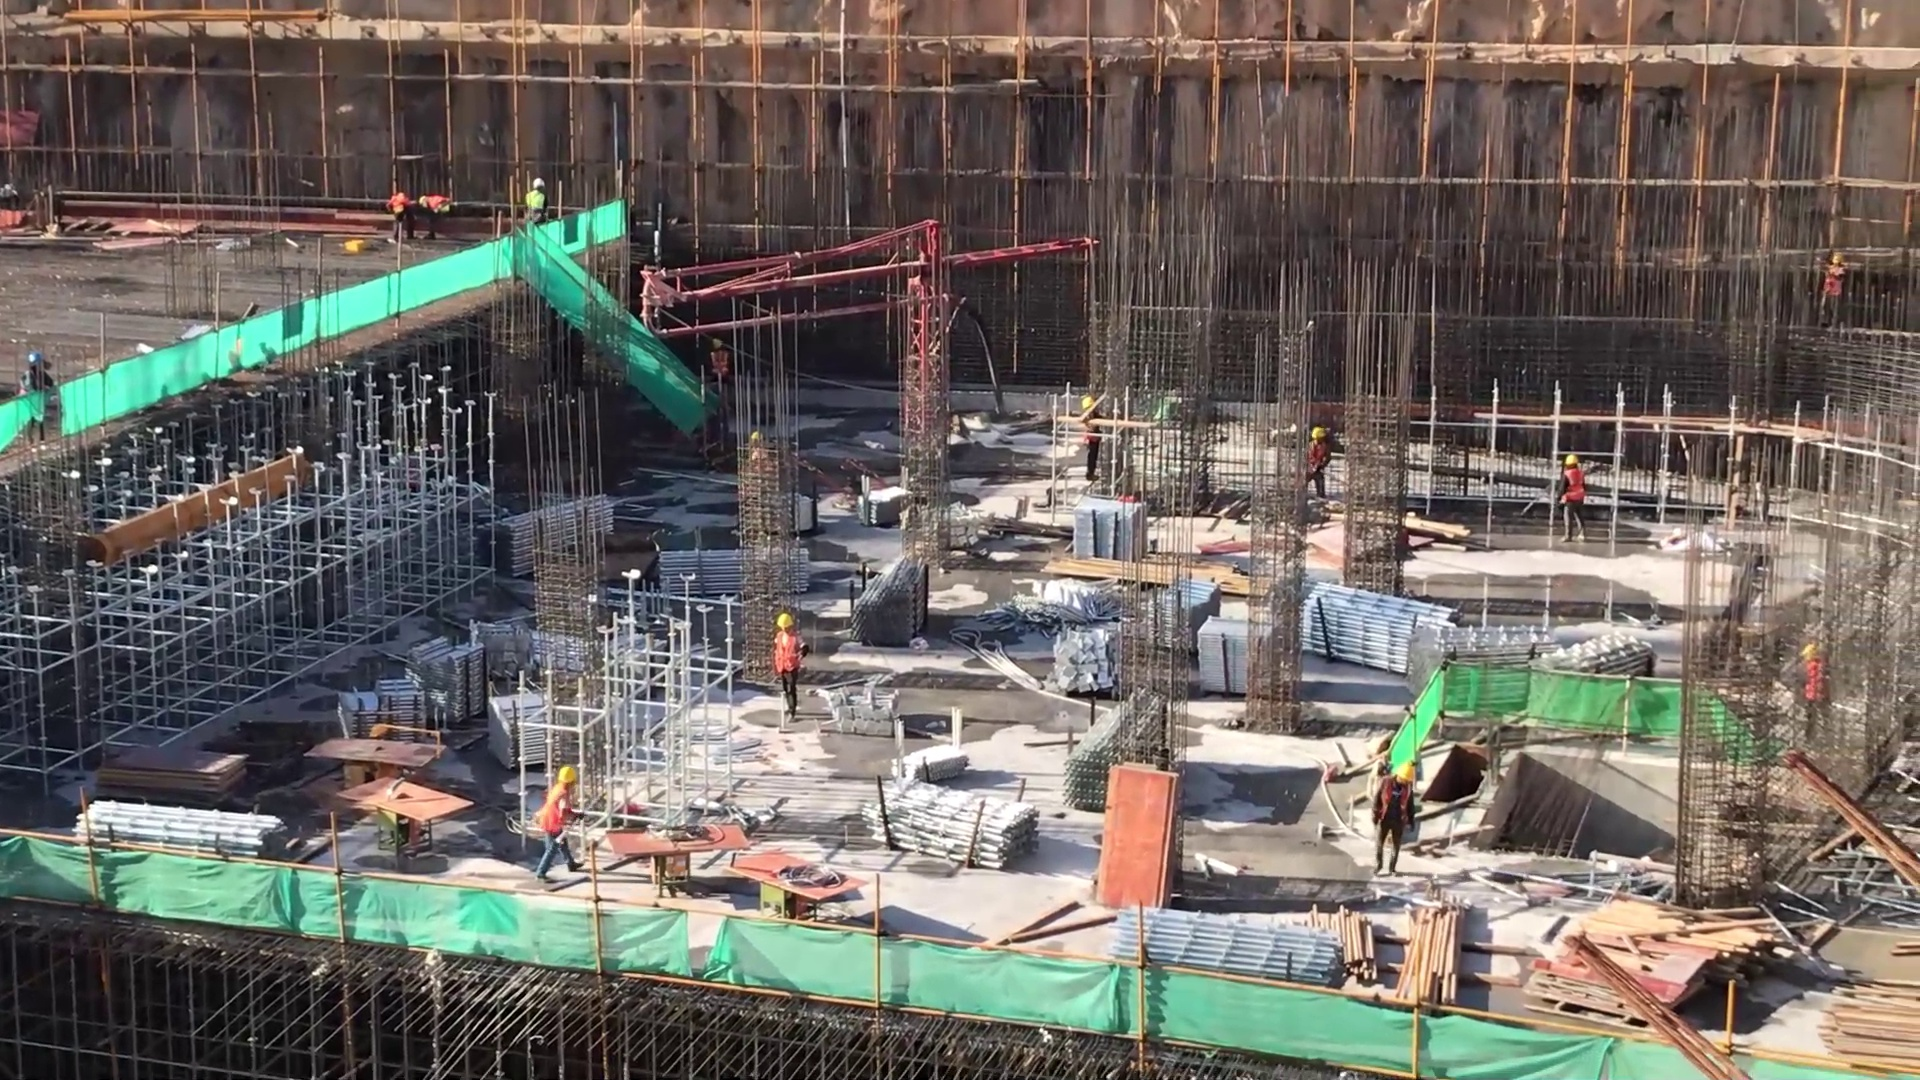board: (1518, 937, 1726, 1012), (1092, 764, 1180, 910), (90, 752, 252, 810)
brick: (1054, 622, 1123, 697)
cutter: (732, 842, 877, 934), (603, 816, 748, 894), (342, 776, 475, 860), (309, 733, 445, 796)
helmet: (1386, 760, 1419, 788), (556, 764, 578, 788), (26, 352, 50, 373), (775, 614, 799, 635), (1562, 453, 1587, 471), (1308, 426, 1329, 441), (532, 176, 549, 193), (708, 334, 723, 353)
person: (530, 764, 588, 897), (1369, 752, 1417, 891), (17, 341, 63, 463), (769, 600, 804, 735), (1549, 452, 1595, 553), (1300, 421, 1334, 507), (519, 167, 555, 238), (415, 189, 456, 245), (384, 185, 418, 250), (706, 328, 734, 406)
scaffold: (1103, 905, 1363, 996), (63, 791, 283, 891), (858, 762, 1041, 879), (1525, 628, 1663, 744), (1302, 581, 1471, 672), (1408, 617, 1565, 714), (474, 494, 612, 583), (843, 549, 935, 650), (485, 690, 589, 767), (407, 631, 484, 726), (659, 549, 816, 592), (1143, 577, 1229, 653), (353, 675, 429, 747)
vest: (534, 784, 575, 843), (1378, 777, 1416, 829), (1557, 466, 1588, 511), (773, 631, 801, 680), (712, 349, 729, 380), (426, 195, 449, 213)
wood: (1815, 981, 1920, 1080)
